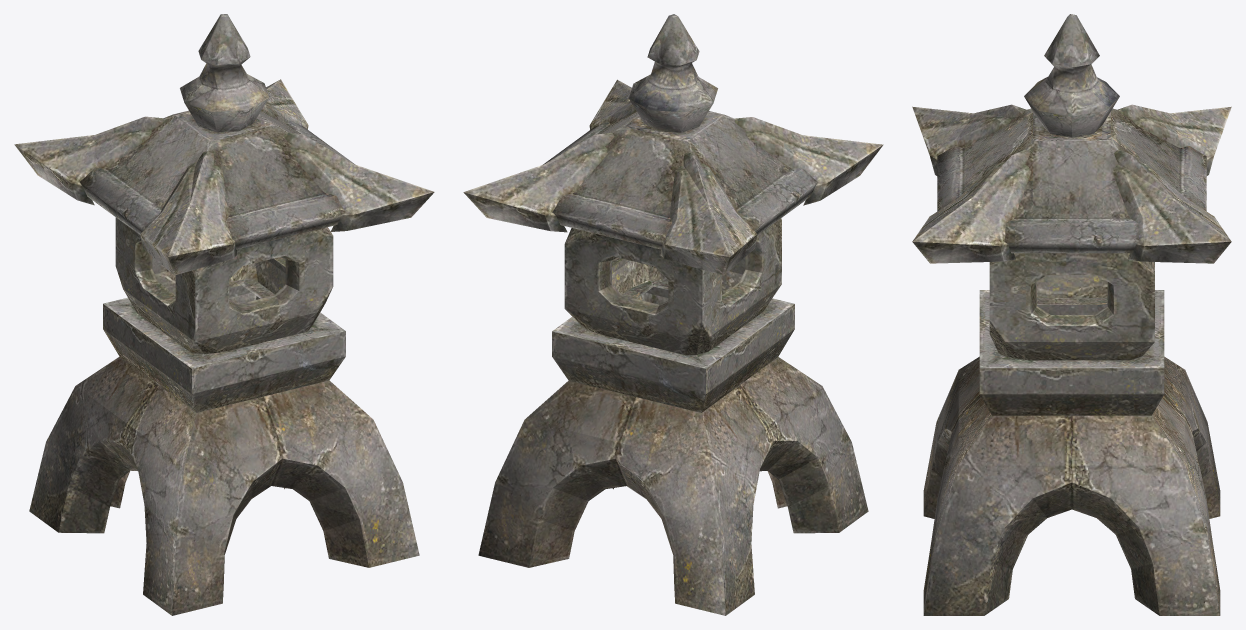
Rendered from bg_anh_delphiinn_stonelight01_sm_phs.FBX.
3 views of the same model, side by side, from view 1: azimuth 30°, elevation 25°; view 2: azimuth 150°, elevation 25°; view 3: azimuth 270°, elevation 25° (orthographic). The views are drawn at different scales.
Parts seen in each view (by area): view 1: bg_anh_delphiinn_stonelight01_sm_phs; view 2: bg_anh_delphiinn_stonelight01_sm_phs; view 3: bg_anh_delphiinn_stonelight01_sm_phs.
Part boxes in pixels (<box>): bg_anh_delphiinn_stonelight01_sm_phs: <box>14,14,434,615</box>; bg_anh_delphiinn_stonelight01_sm_phs: <box>463,14,883,615</box>; bg_anh_delphiinn_stonelight01_sm_phs: <box>912,14,1231,615</box>.
Bounding box in the file's own units: 84.4 × 157 × 84.4.
